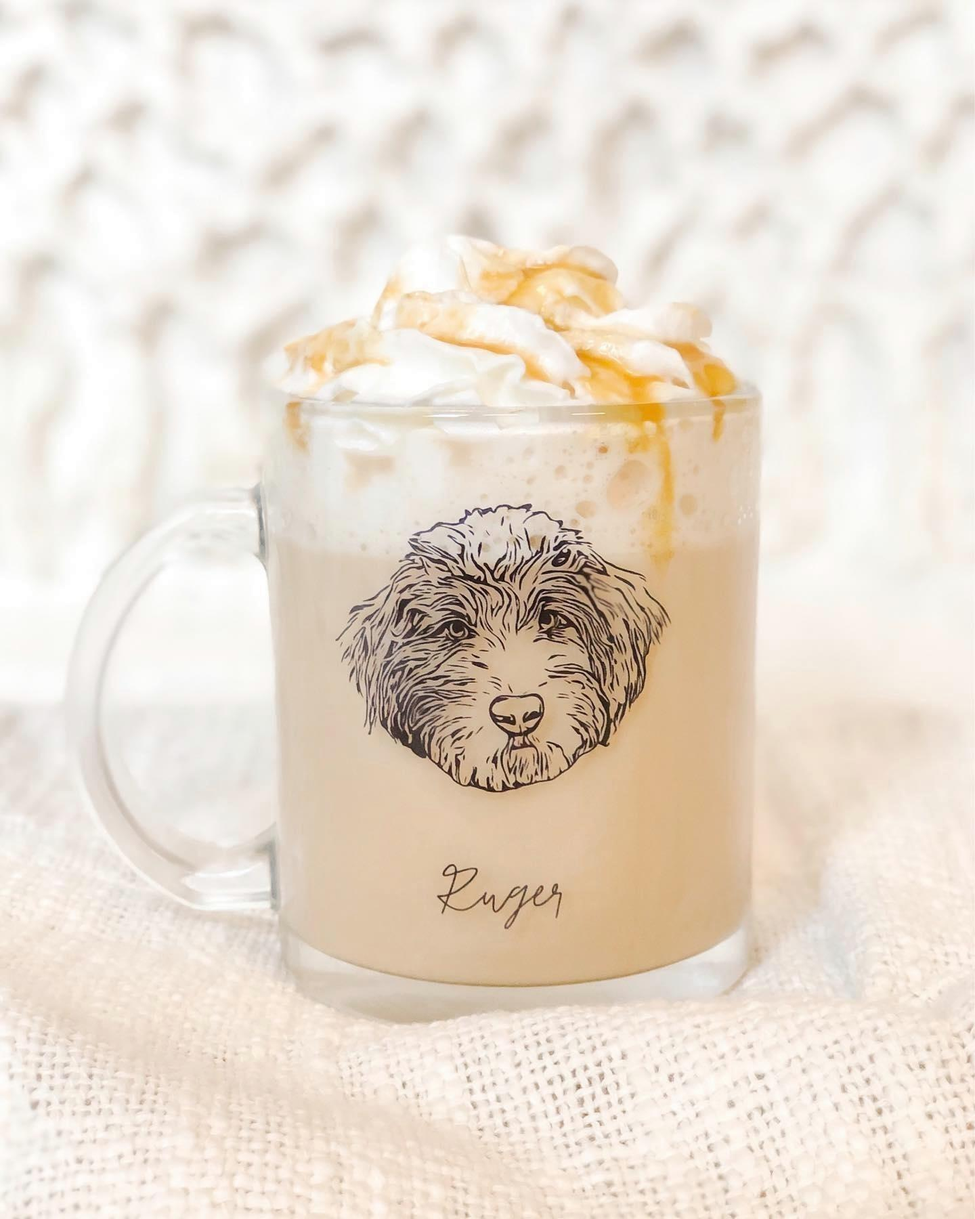glass-mug: (58, 351, 783, 1020)
